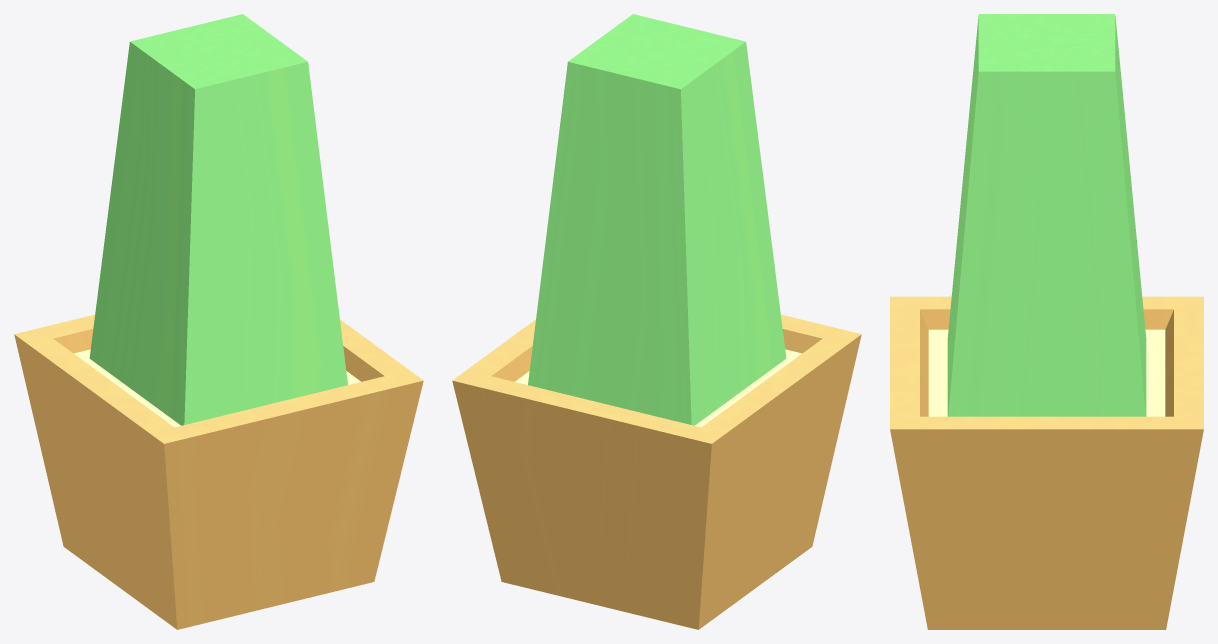
File: trees.003.glb
The picture shows the model from 3 angles, left to right: view 1: azimuth 30°, elevation 25°; view 2: azimuth 150°, elevation 25°; view 3: azimuth 270°, elevation 25°; orthographic projection. The views are drawn at different scales.
Parts seen in each view (by area): view 1: trees.003(Clone); view 2: trees.003(Clone); view 3: trees.003(Clone).
Boxes of the visible parts, x1,y1,x2,y2 form: trees.003(Clone): [14, 14, 423, 629]; trees.003(Clone): [452, 14, 861, 629]; trees.003(Clone): [890, 14, 1203, 629].
Size of the model in its own units: 0.7761 by 1.46 by 0.7761.
Materials: 1 (1 with a texture image).
